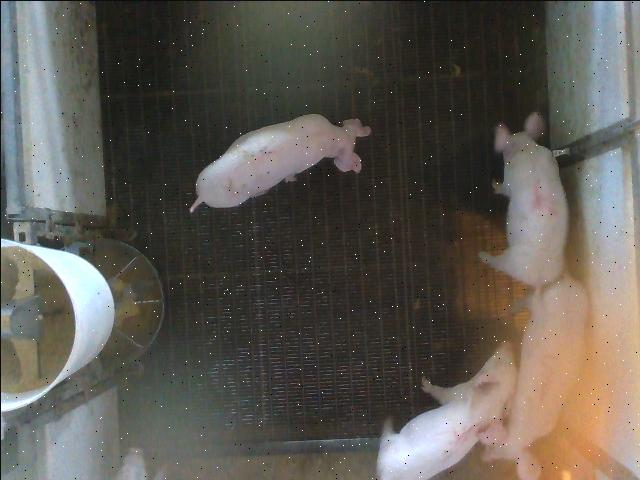pig-3: (486, 274, 588, 479)
pig-4: (479, 111, 568, 287)
pig-5: (376, 341, 516, 478)
